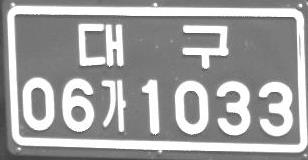0: (174, 79, 209, 135), (22, 77, 55, 132)
1: (138, 78, 169, 134)
3: (258, 80, 294, 137), (216, 79, 250, 136)
6: (61, 76, 95, 132)
가: (99, 78, 126, 132)
대구_D: (77, 20, 229, 71)
